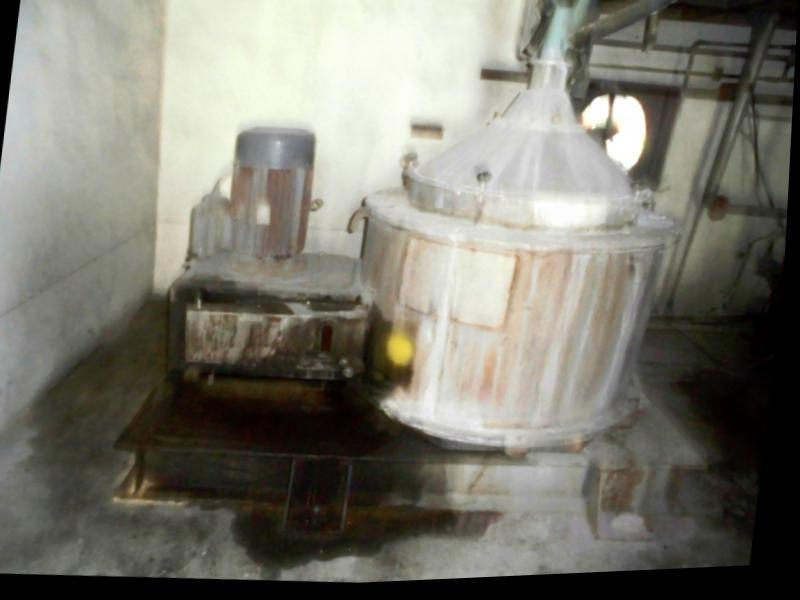water accumulation: (112, 291, 497, 578)
